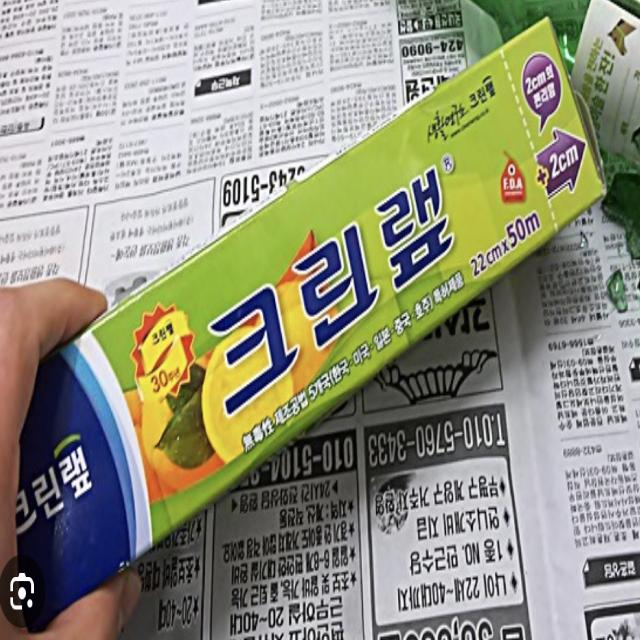biodegradable: (7, 21, 616, 540)
